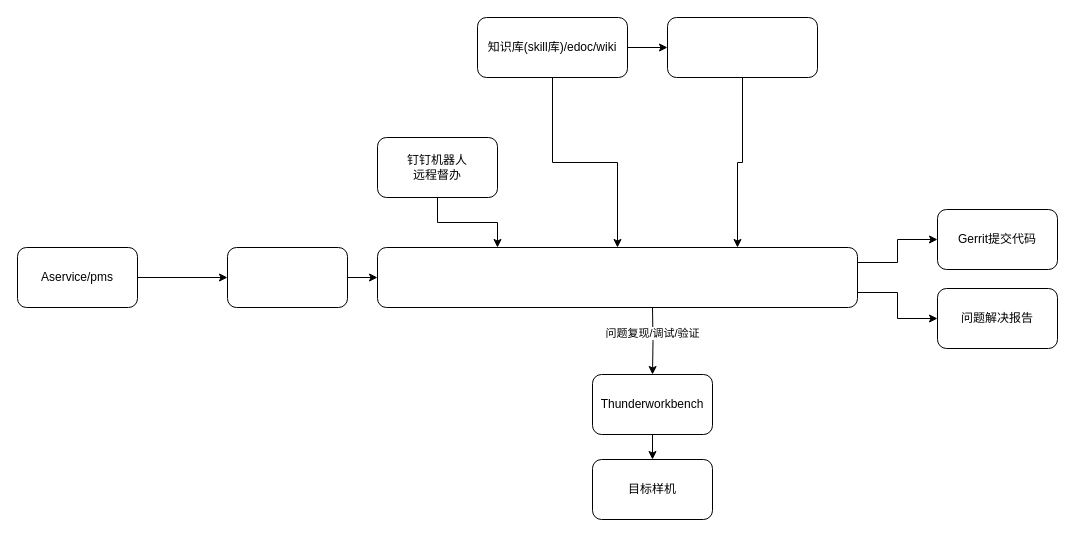
The diagram is 1075 pixels wide and 537 high, and some of its shapes have lost their labels. The centre of each missing label's shape, as x and y in pixels:
ASAP新工单扫描 每日日报: the point at 287,277
Claude Code 专业负责代码分析/bug修复: the point at 742,47
DeepSeek Harness: the point at 617,277
